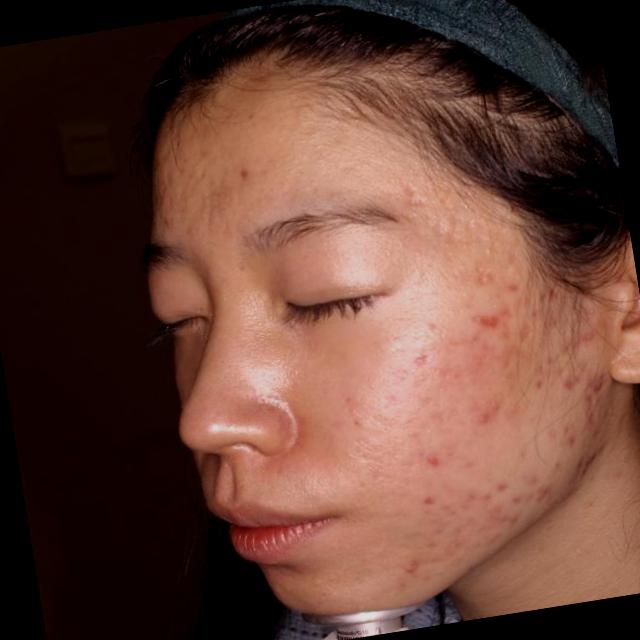acne: (552, 414, 596, 459), (404, 342, 440, 382), (494, 498, 530, 536), (556, 355, 588, 396), (418, 438, 454, 474), (233, 155, 263, 195), (428, 534, 458, 568), (414, 481, 448, 510), (512, 318, 542, 349), (574, 318, 606, 346), (528, 478, 557, 508), (486, 470, 516, 498), (593, 365, 621, 393), (573, 385, 601, 413), (488, 287, 512, 319), (512, 463, 542, 488), (398, 554, 426, 580), (469, 302, 494, 330), (577, 446, 599, 474), (470, 482, 492, 510), (492, 319, 514, 344), (505, 484, 531, 505), (503, 277, 525, 301), (484, 390, 504, 415), (475, 408, 497, 429), (580, 405, 600, 427), (461, 480, 476, 506)
